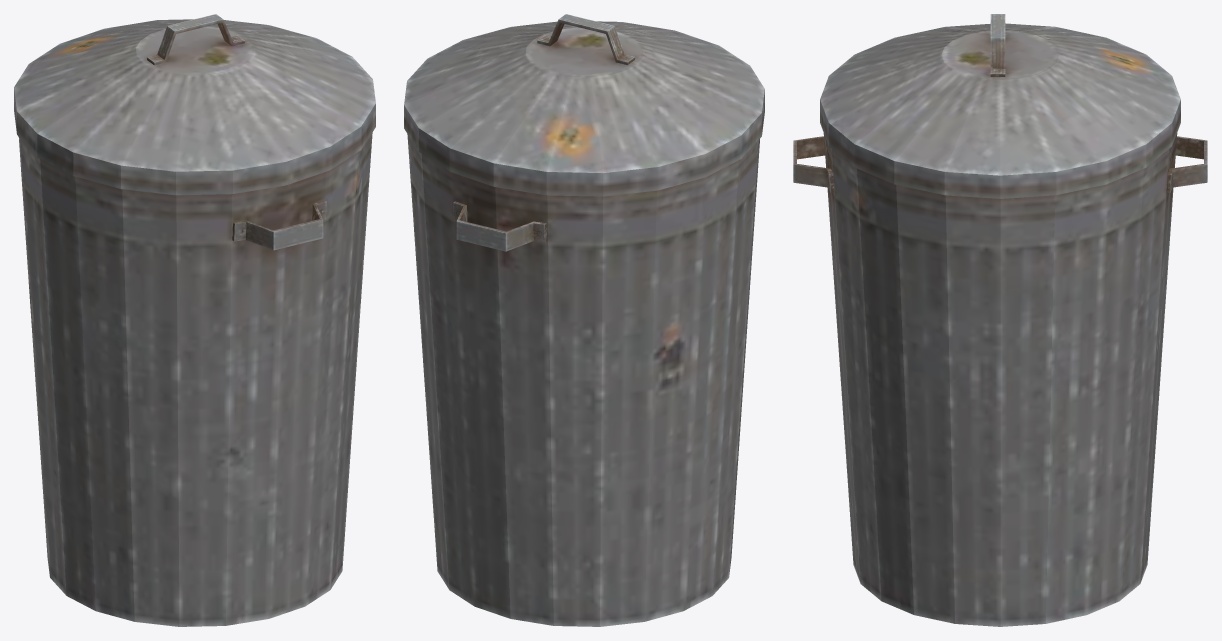
File: papelera.glb
The picture shows the model from 3 angles, left to right: view 1: azimuth 30°, elevation 25°; view 2: azimuth 150°, elevation 25°; view 3: azimuth 270°, elevation 25°; orthographic projection.
Visible parts, largest first — view 1: lixo_low; view 2: lixo_low; view 3: lixo_low.
Boxes of the visible parts, x1,y1,x2,y2 form: lixo_low: (14, 14, 375, 626); lixo_low: (404, 14, 764, 626); lixo_low: (793, 14, 1207, 626).
Bounding box in the file's own units: 169 × 279 × 194.
1 material, 1 textured.
